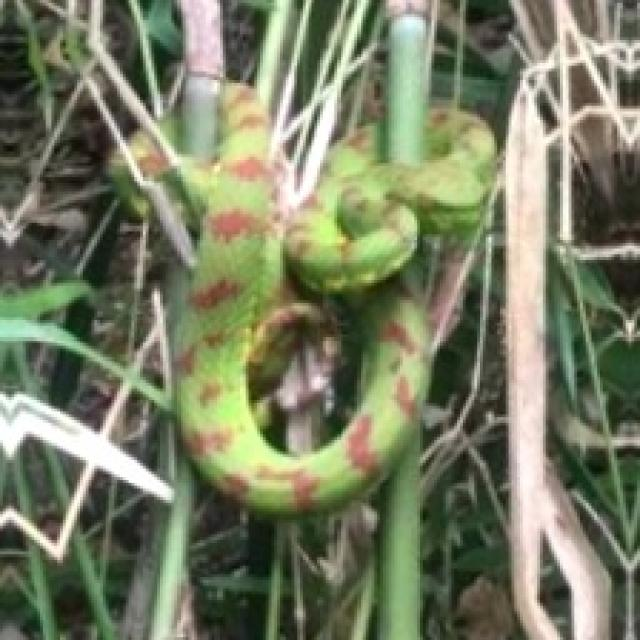philippine pitviper: (174, 83, 491, 514), (249, 266, 363, 454)
